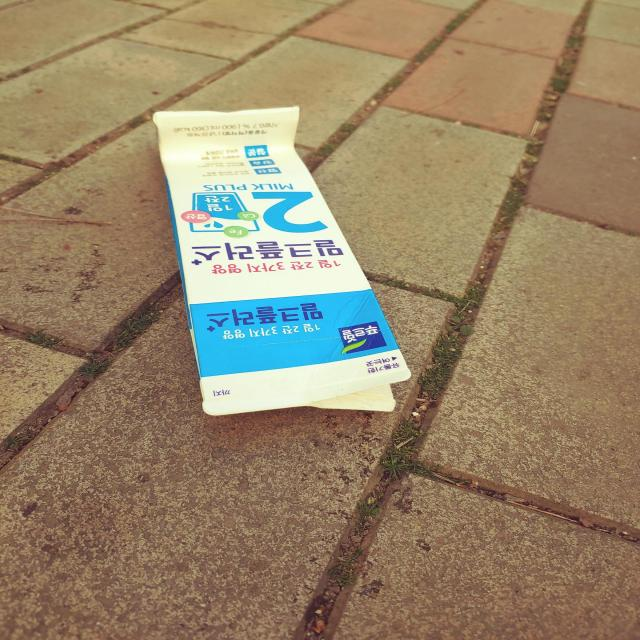paperpack: (153, 106, 411, 416)
